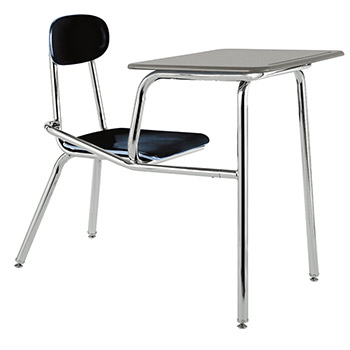desk_021.jpg: (4, 5, 349, 332)
